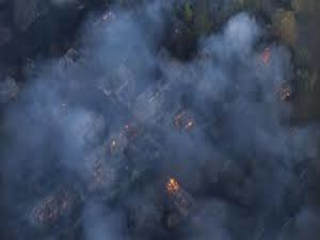fire: (175, 110, 195, 132), (163, 177, 184, 194), (262, 47, 275, 68)
smoke: (217, 10, 256, 69), (69, 108, 112, 150)
